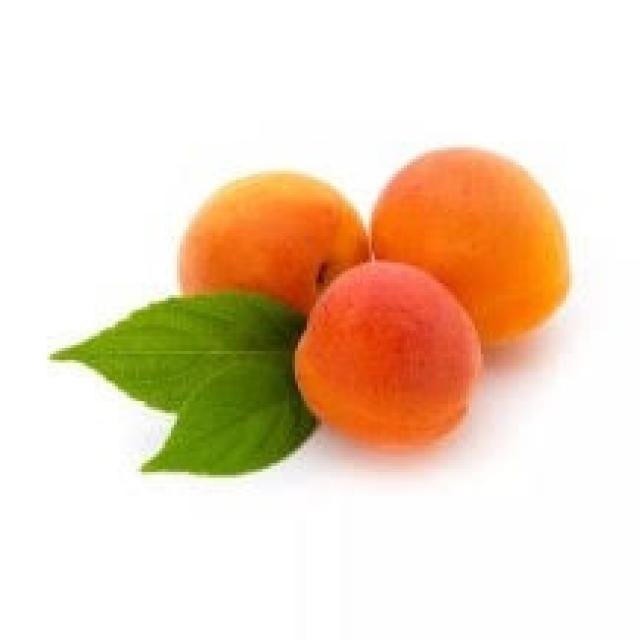kayisi: (365, 131, 578, 359), (290, 249, 492, 459), (167, 163, 376, 334)
yaprak: (131, 350, 328, 479)
